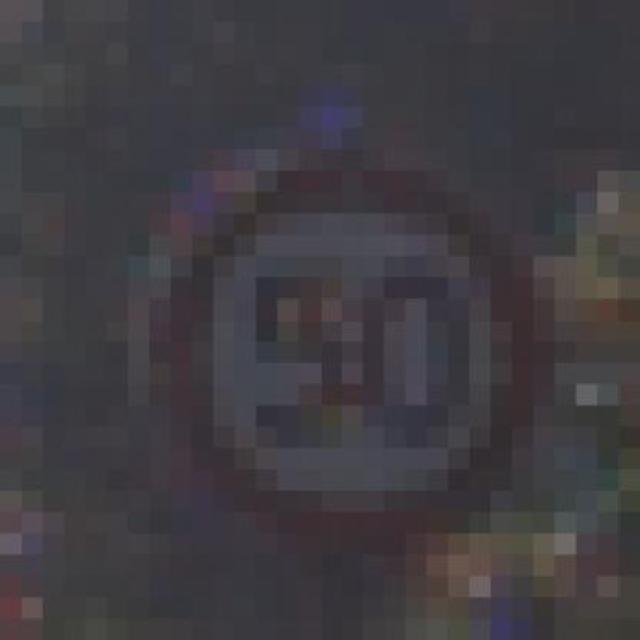50 mph speed limit: (128, 128, 555, 512)
